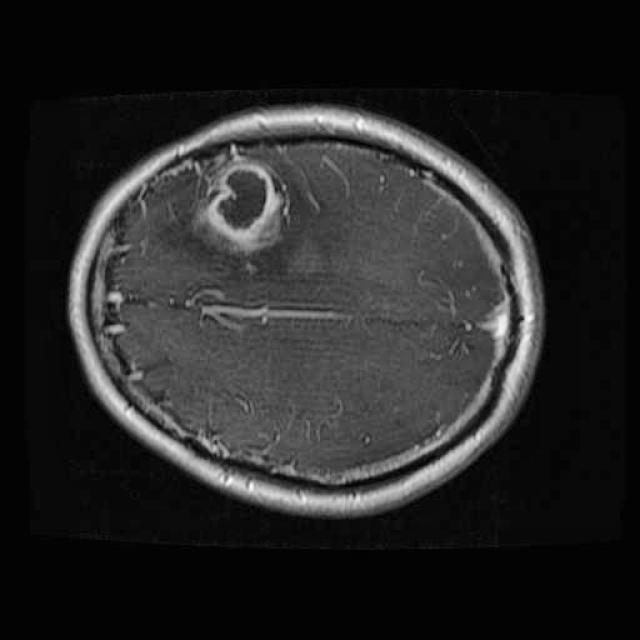Tumor: (198, 152, 292, 258)
